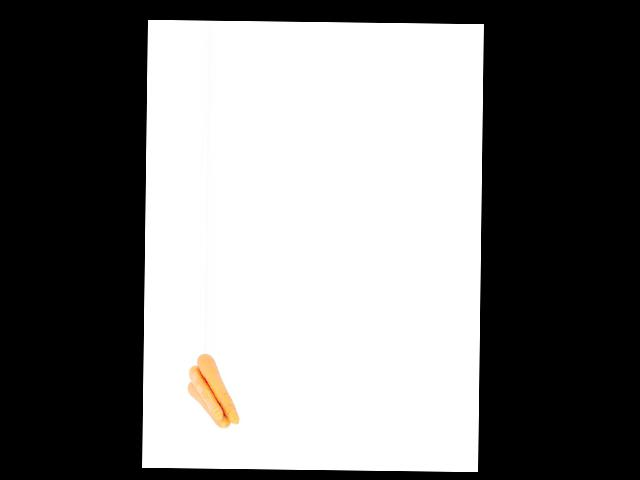carrot: (196, 352, 239, 422)
